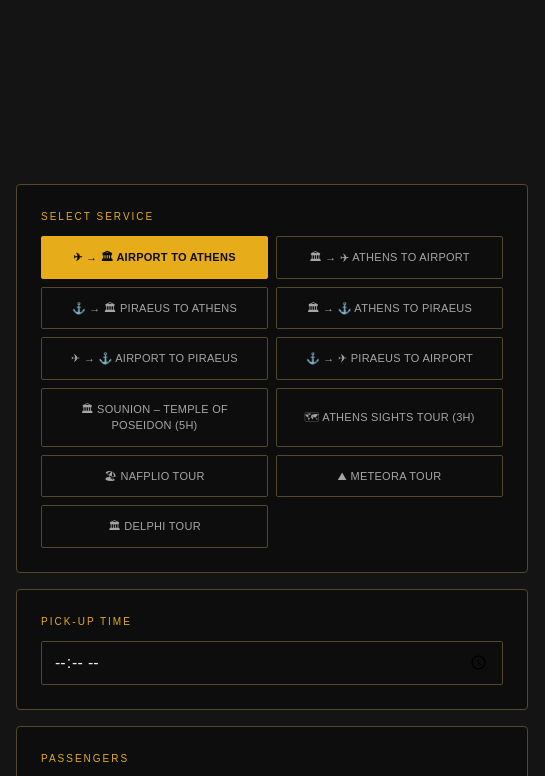
Scenario: unchanged calculator fares and customer-initiated email drafts › keeps the sounio fixed fare at €350
Click the button "🏛 Sounion – Temple of Poseidon (5h)".
click(154, 417)  # box x1=41 y1=388 x2=268 y2=446
(page scrolled)
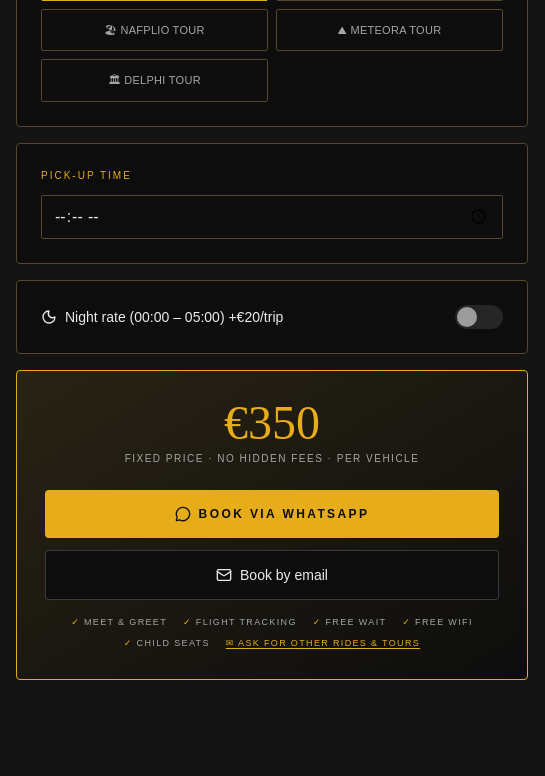
expect the text "€350" is shown: met, box x1=224 y1=396 x2=320 y2=448
